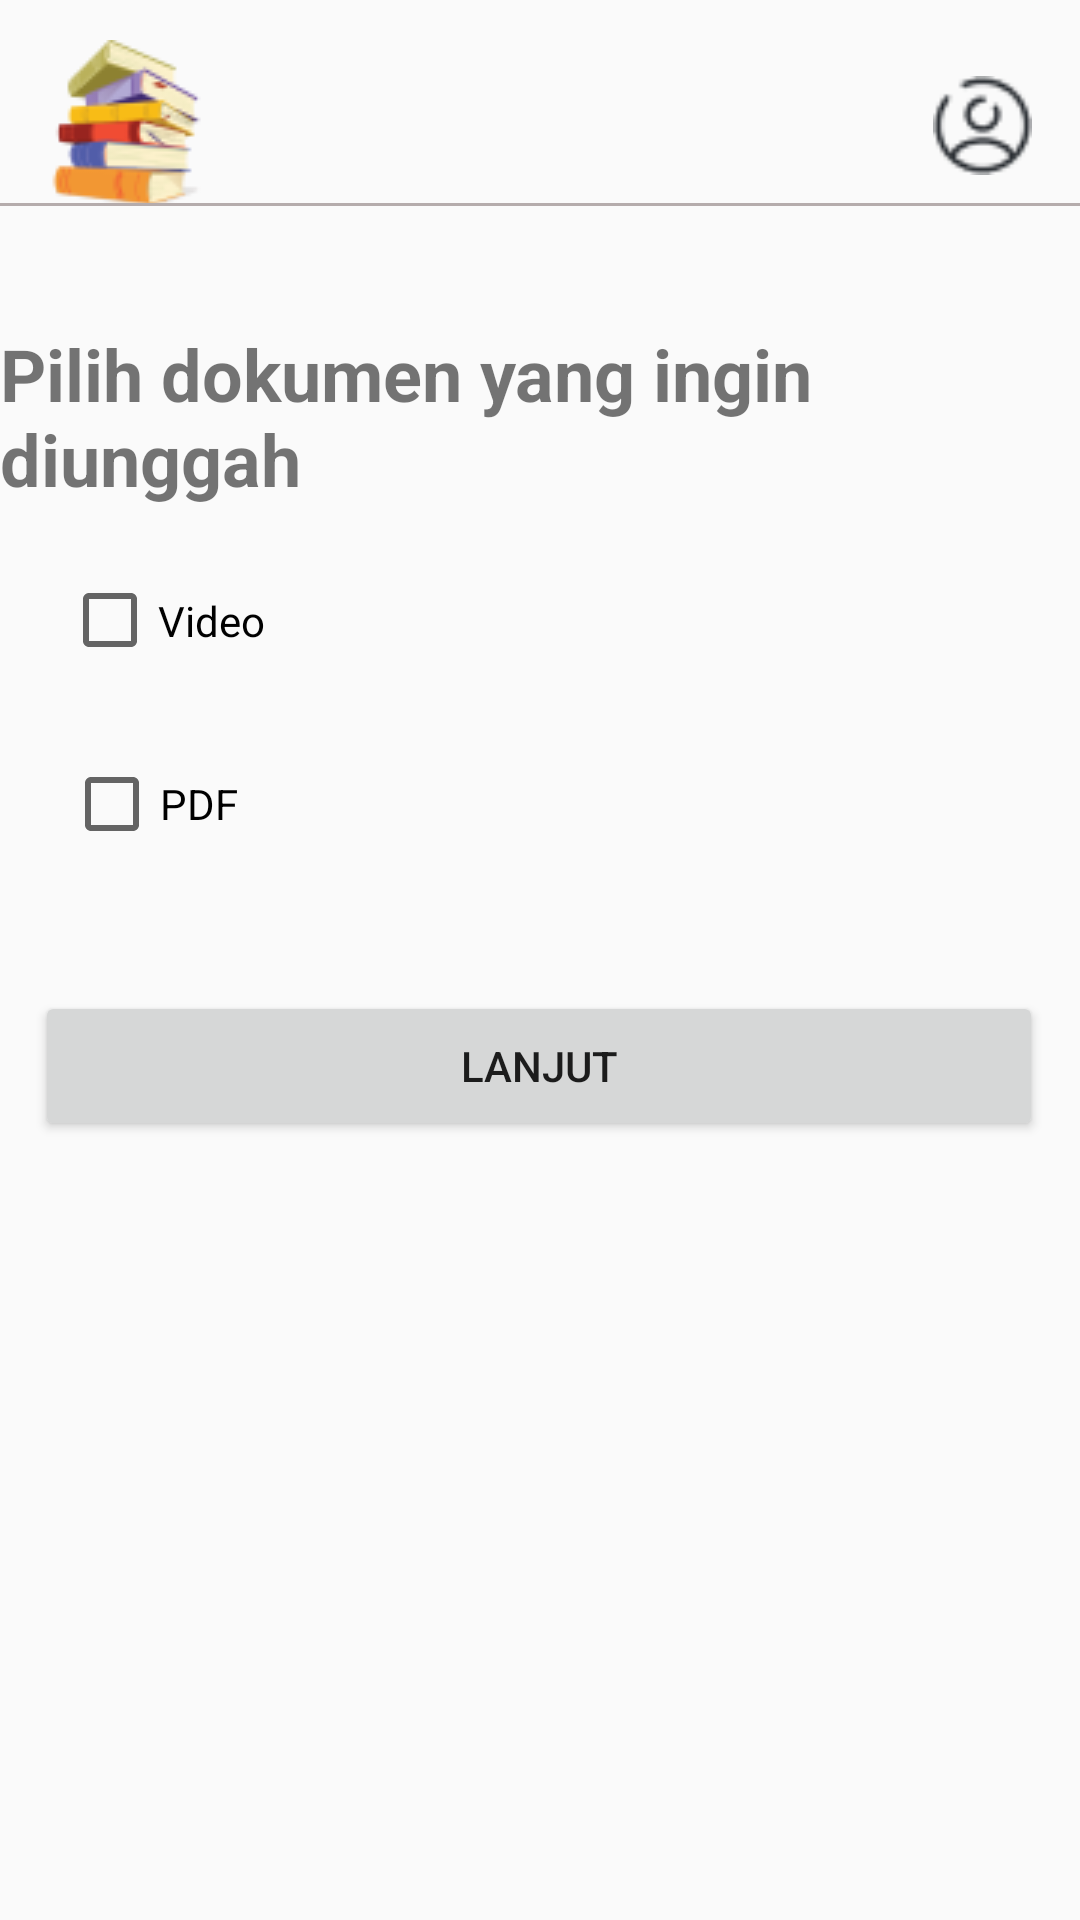

Screen size 1080 x 1920. Icon name, then its box in pixels as [left=x1, top=y1, right=x2, bottom=y2]:
buku: [left=41, top=40, right=215, bottom=205]
profile: [left=933, top=76, right=1032, bottom=175]
